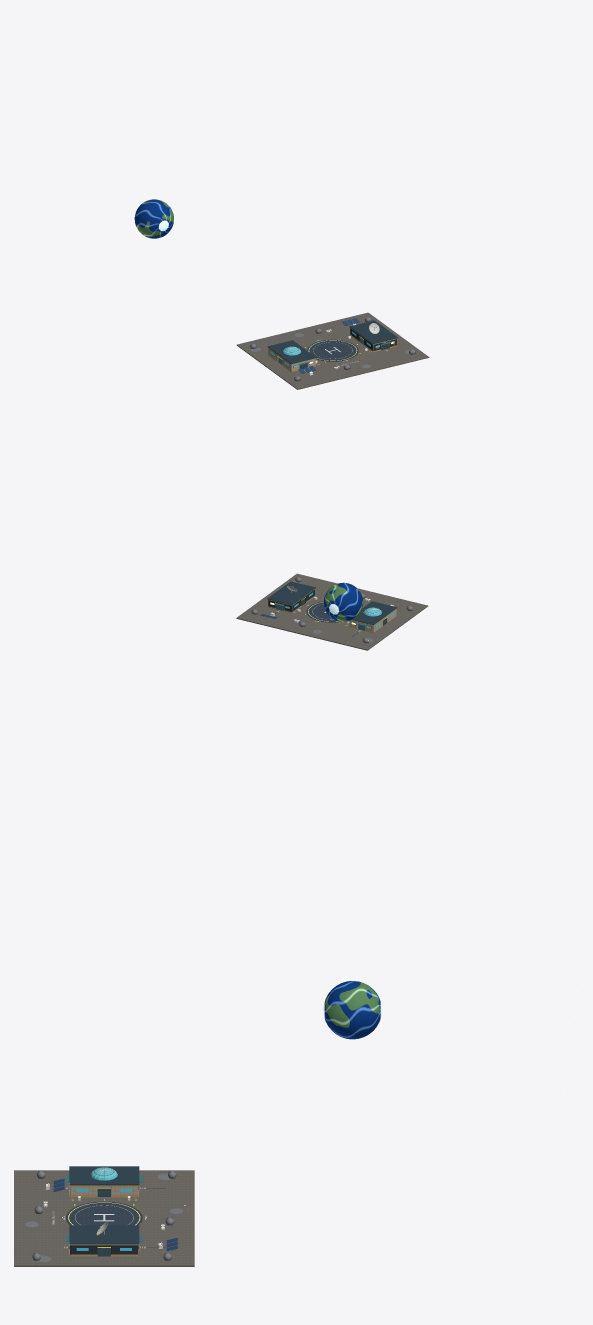
Rendered from moon-medium.glb.
3 renders of one model, top to bottom at view 1: azimuth 30°, elevation 25°; view 2: azimuth 150°, elevation 25°; view 3: azimuth 270°, elevation 25°, orthographic. The views are drawn at different scales.
Parts seen in each view (by area): view 1: moon playable ground.005, Art distant Earth.004, Batched 7.004, landing pad.005; view 2: moon playable ground.005, Art distant Earth.004, Batched 7.004, landing pad.005; view 3: moon playable ground.005, Art distant Earth.004, Batched 7.004, landing pad.005.
Boxes of the visible parts, x1,y1,x2,y2 form: moon playable ground.005: [236, 312, 429, 389]; Art distant Earth.004: [134, 199, 173, 238]; Batched 7.004: [267, 320, 397, 363]; landing pad.005: [307, 339, 358, 361]; moon playable ground.005: [236, 573, 428, 650]; Art distant Earth.004: [323, 582, 362, 621]; Batched 7.004: [267, 581, 397, 624]; landing pad.005: [306, 601, 340, 622]; moon playable ground.005: [14, 1170, 194, 1266]; Art distant Earth.004: [323, 981, 381, 1039]; Batched 7.004: [69, 1166, 139, 1244]; landing pad.005: [66, 1201, 142, 1225].
Bounding box in the file's own units: 415 × 148 × 250.
Materials: 27 (6 with a texture image).
